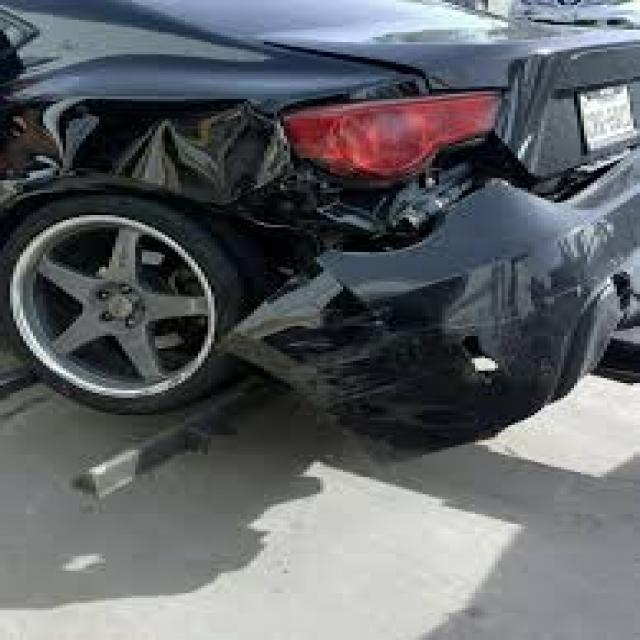moderate: (30, 98, 578, 414)
